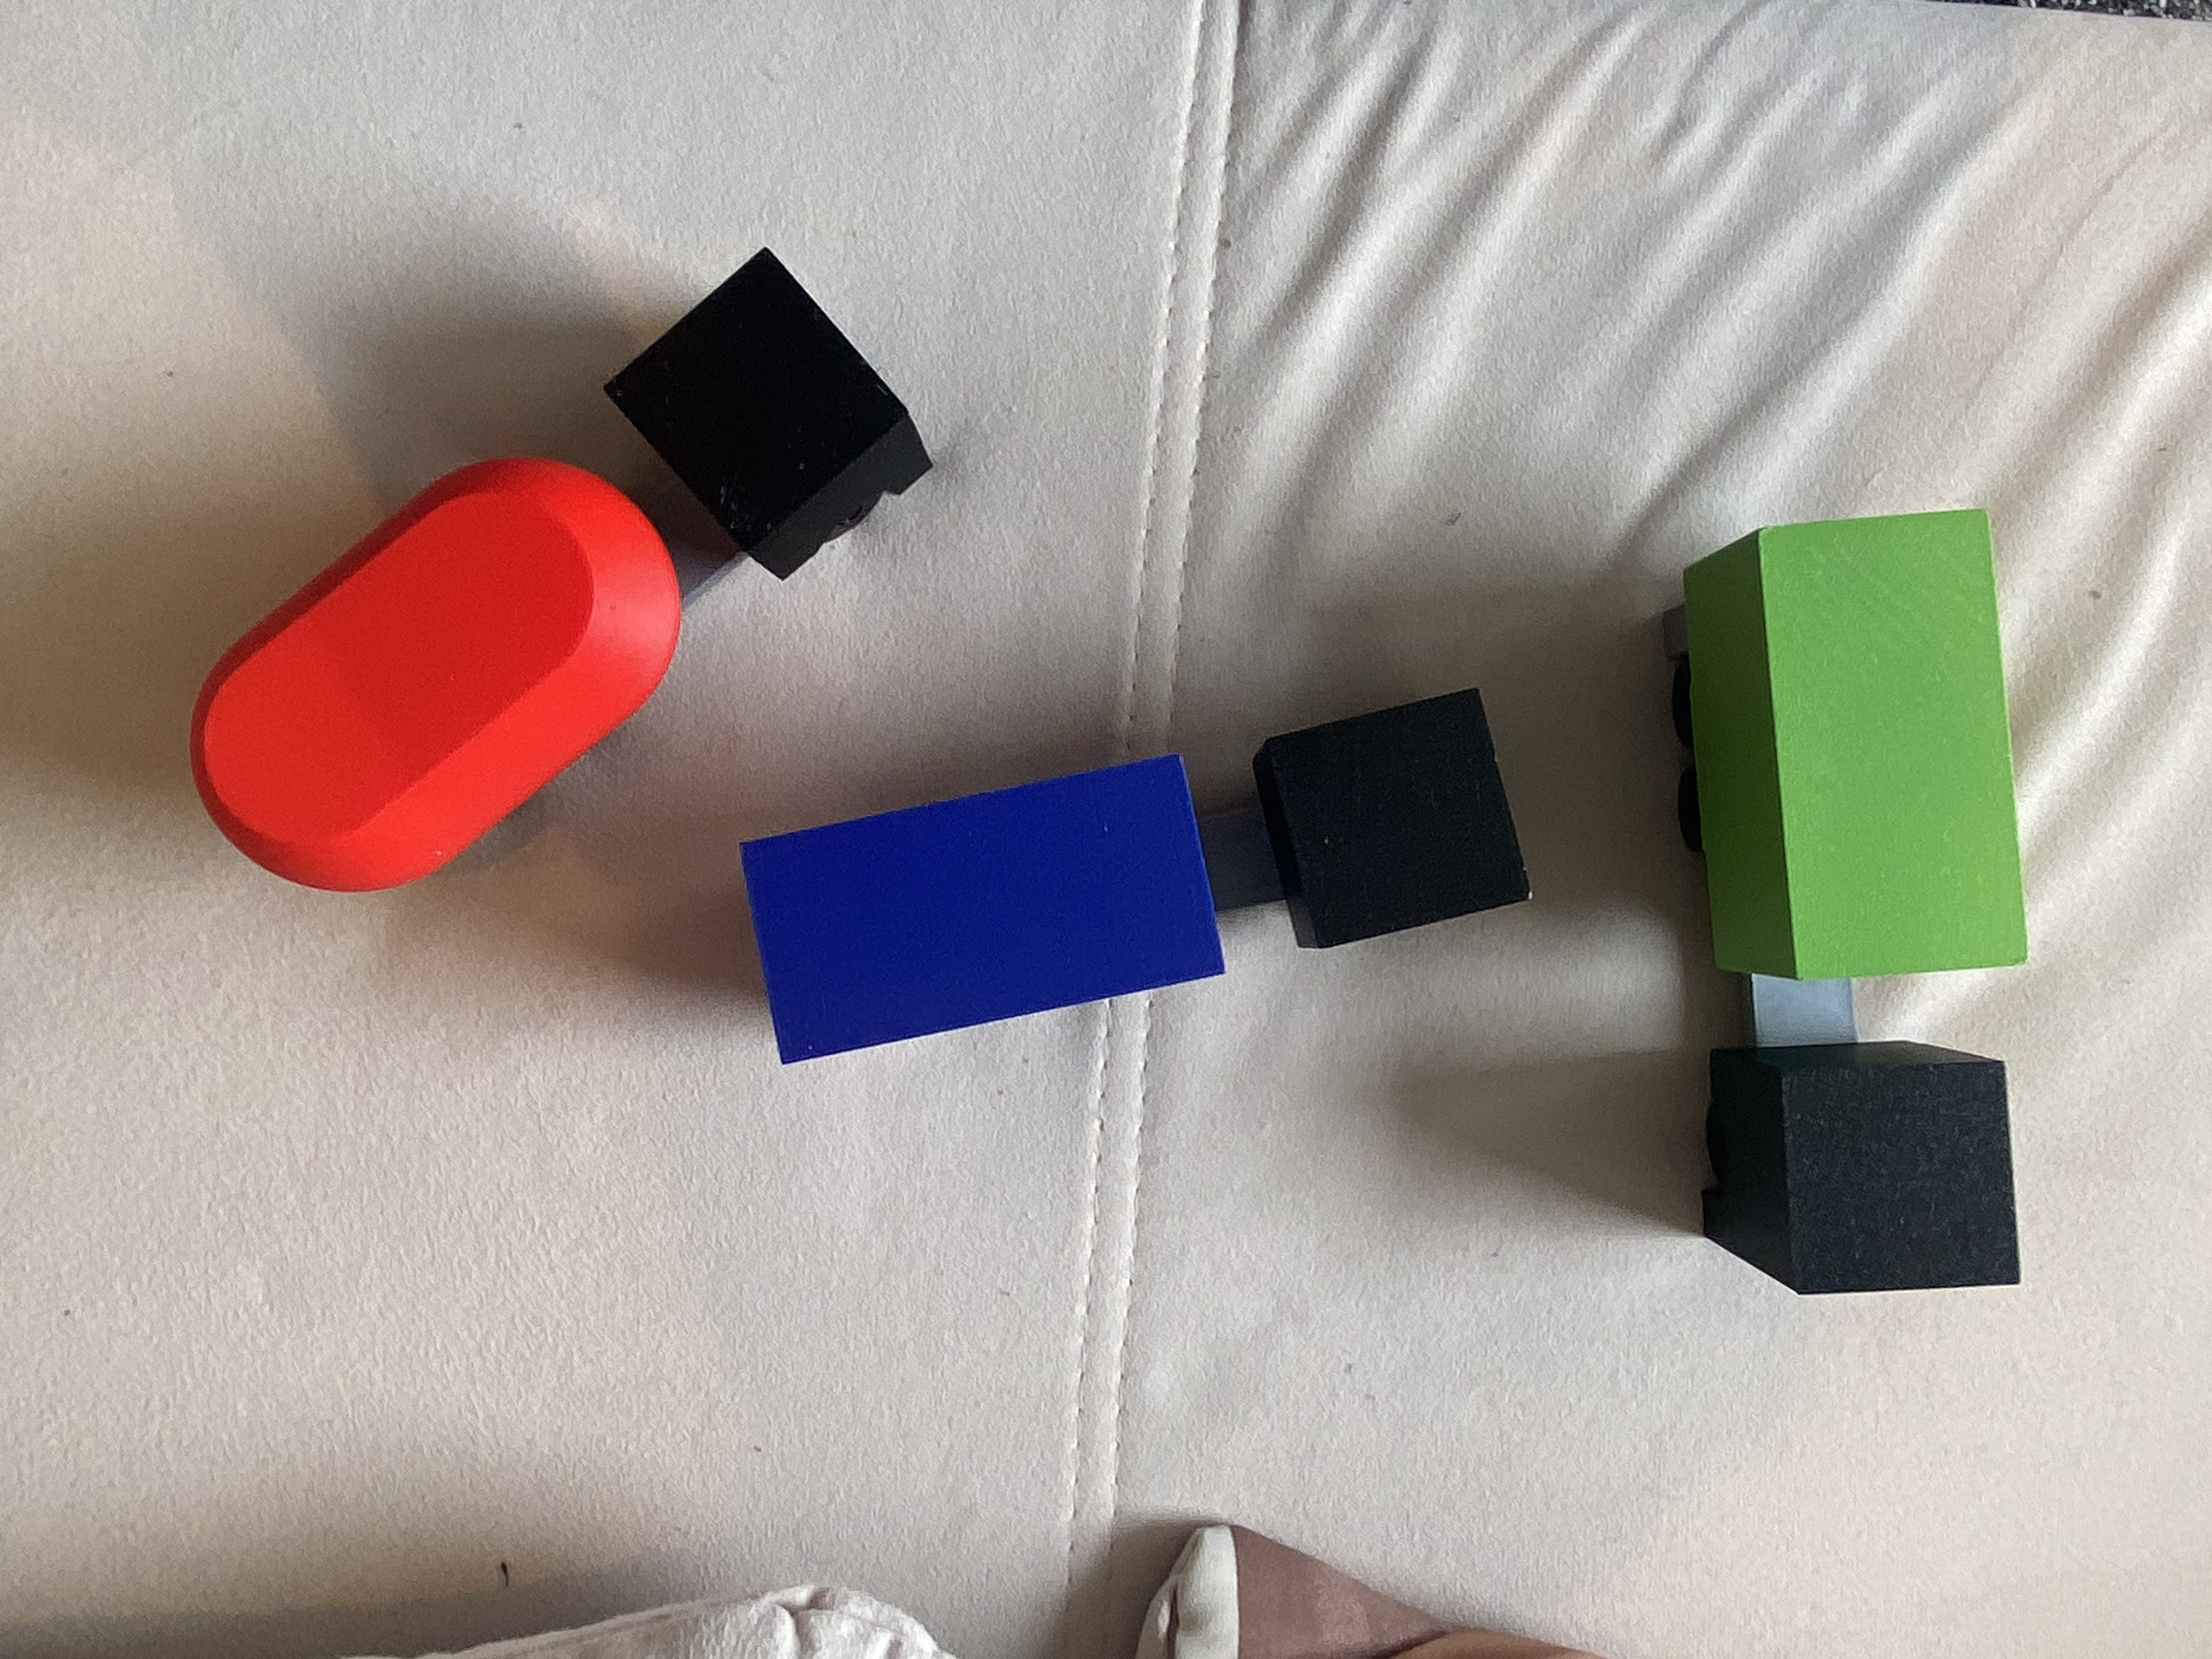blue_truck: (742, 756, 1534, 990)
green_truck: (1665, 509, 2029, 1293)
red_truck: (139, 441, 951, 755)
